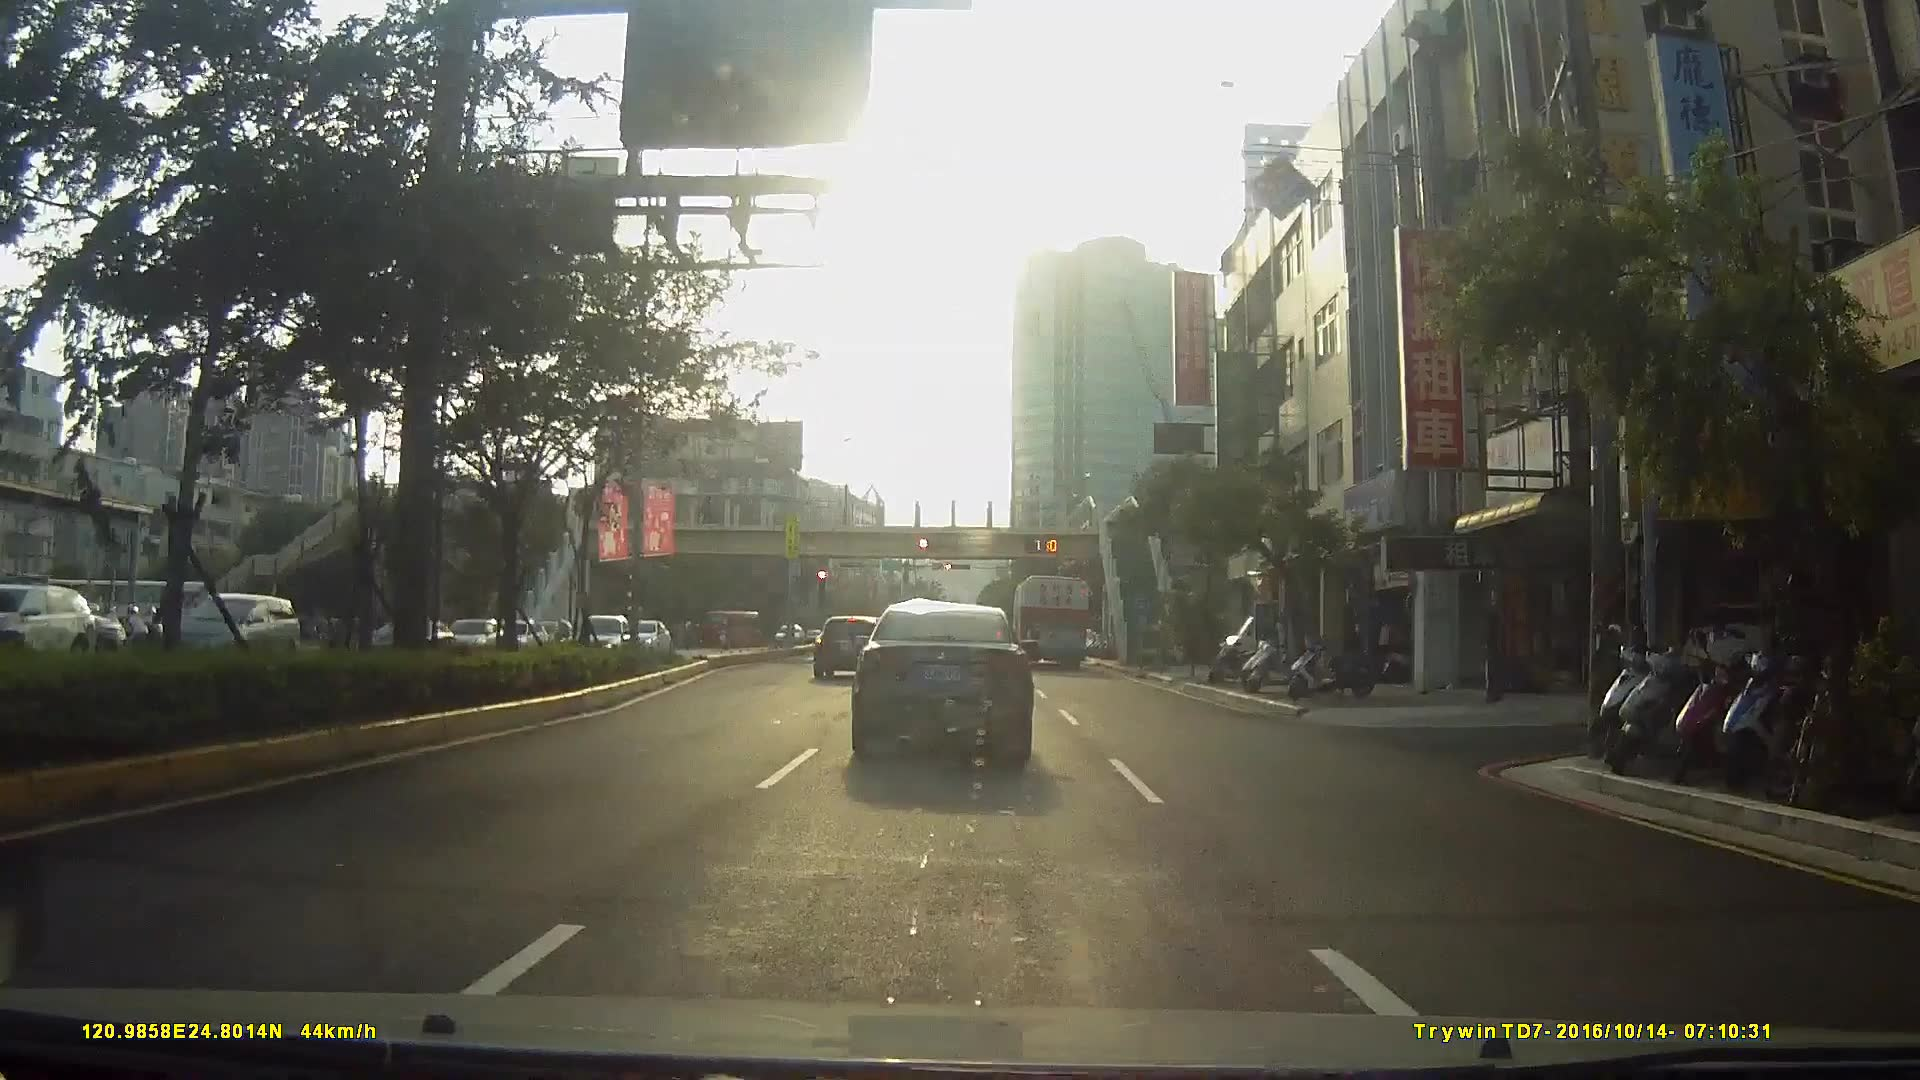vehicle: (848, 601, 1034, 762), (167, 591, 295, 665), (1007, 574, 1091, 673), (617, 584, 708, 642), (811, 613, 880, 680)
